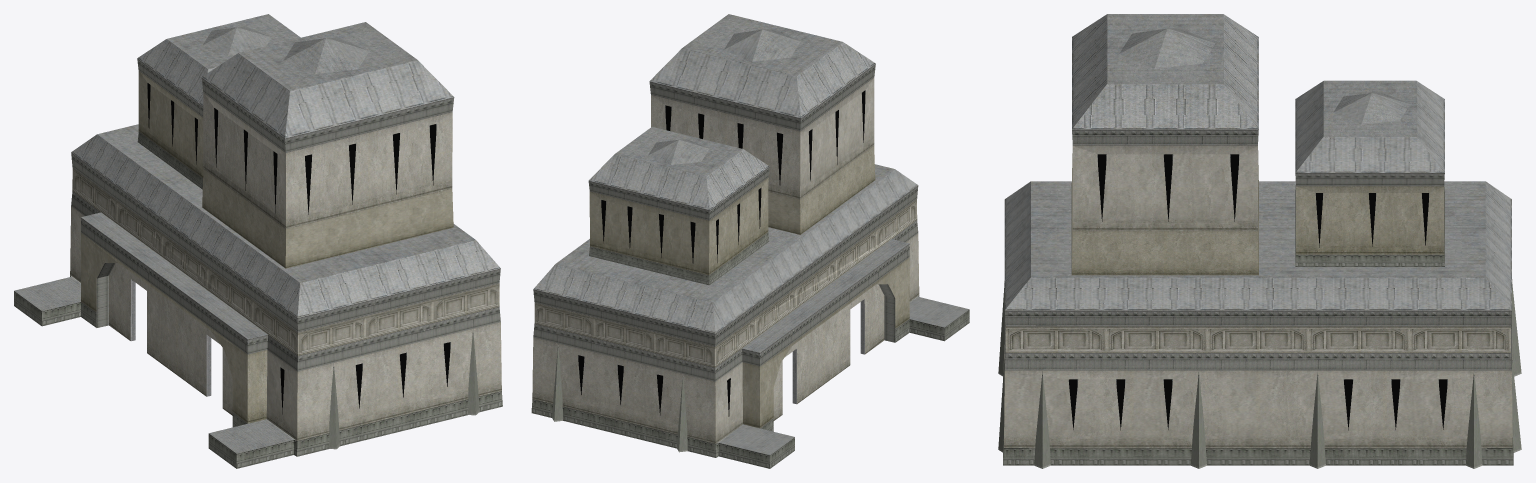
Rendered from thm_corl_imprv_historic_24x16_s02_r0_mesh_l2.fbx.
3 renders of one model, left to right at view 1: azimuth 30°, elevation 25°; view 2: azimuth 150°, elevation 25°; view 3: azimuth 270°, elevation 25°, orthographic. The views are drawn at different scales.
Parts seen in each view (by area): view 1: mesh_node; view 2: mesh_node; view 3: mesh_node.
Boxes of the visible parts, box(x1,y1,x2,y2) form: mesh_node: box(14, 14, 502, 468); mesh_node: box(531, 14, 969, 468); mesh_node: box(998, 14, 1521, 468).
Bounding box in the file's own units: 14.72 × 17.74 × 22.09.
